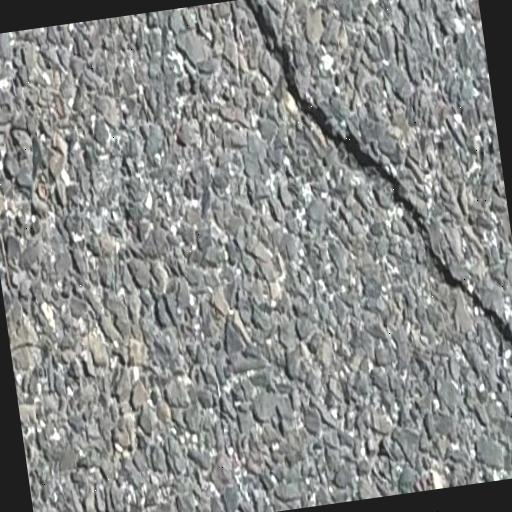spalling: (239, 2, 512, 354)
